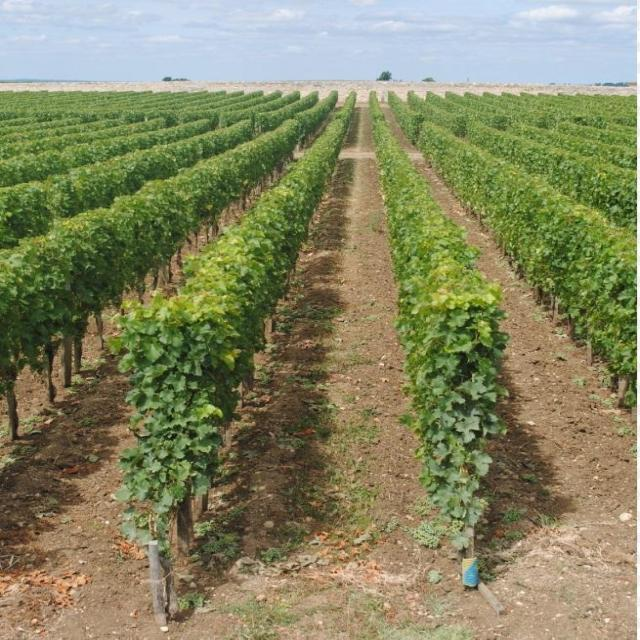row: (178, 106, 470, 616), (388, 116, 639, 564), (0, 377, 132, 582)
